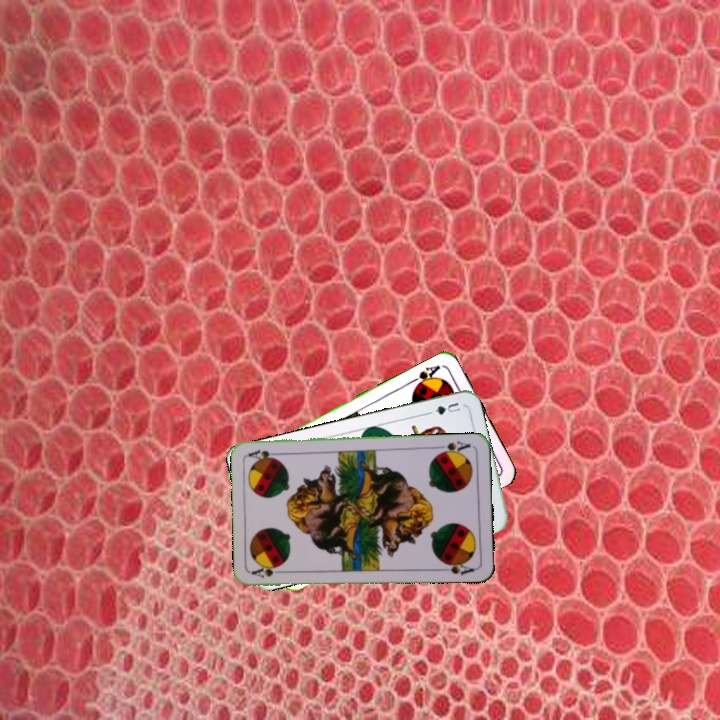GU: (431, 398, 463, 418)
SA: (407, 360, 443, 391), (434, 437, 473, 457), (248, 562, 289, 580)
